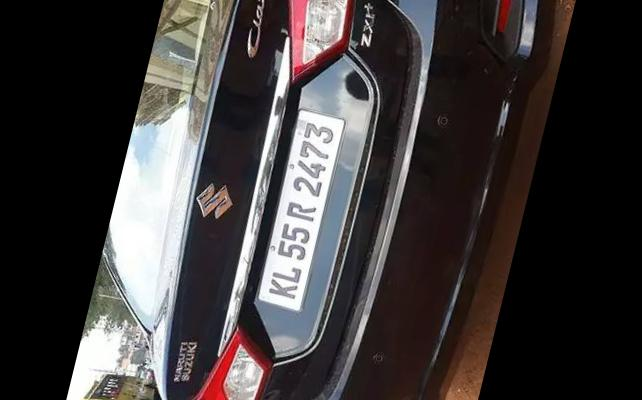plate: (232, 87, 363, 322)
